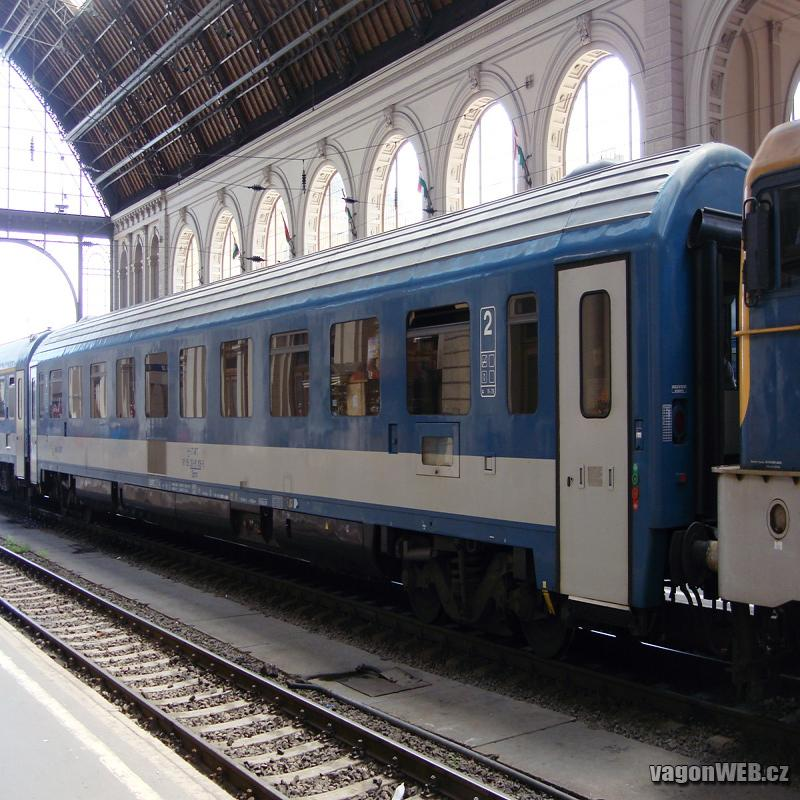train: (29, 143, 752, 703)
